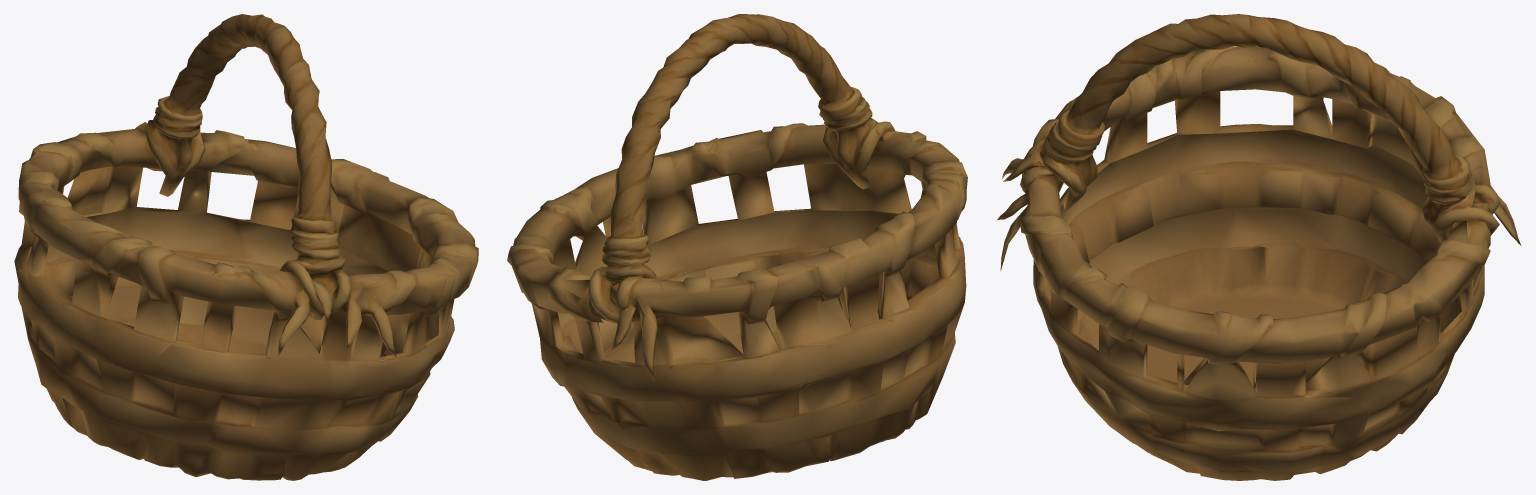
File: basket_3d_model.glb
3 renders of one model, left to right at view 1: azimuth 30°, elevation 25°; view 2: azimuth 150°, elevation 25°; view 3: azimuth 270°, elevation 25°, orthographic. The views are drawn at different scales.
Visible parts, largest first — view 1: tripo_node_822bdd45-eb11-4316-9d72-55ef77ab67df; view 2: tripo_node_822bdd45-eb11-4316-9d72-55ef77ab67df; view 3: tripo_node_822bdd45-eb11-4316-9d72-55ef77ab67df.
Part boxes in pixels (x1,y1,x2,y2): tripo_node_822bdd45-eb11-4316-9d72-55ef77ab67df: (14, 14, 478, 480); tripo_node_822bdd45-eb11-4316-9d72-55ef77ab67df: (507, 14, 967, 480); tripo_node_822bdd45-eb11-4316-9d72-55ef77ab67df: (997, 14, 1521, 480).
Size of the model in its own units: 0.9277 by 0.9043 by 0.998.
1 material, 1 textured.
